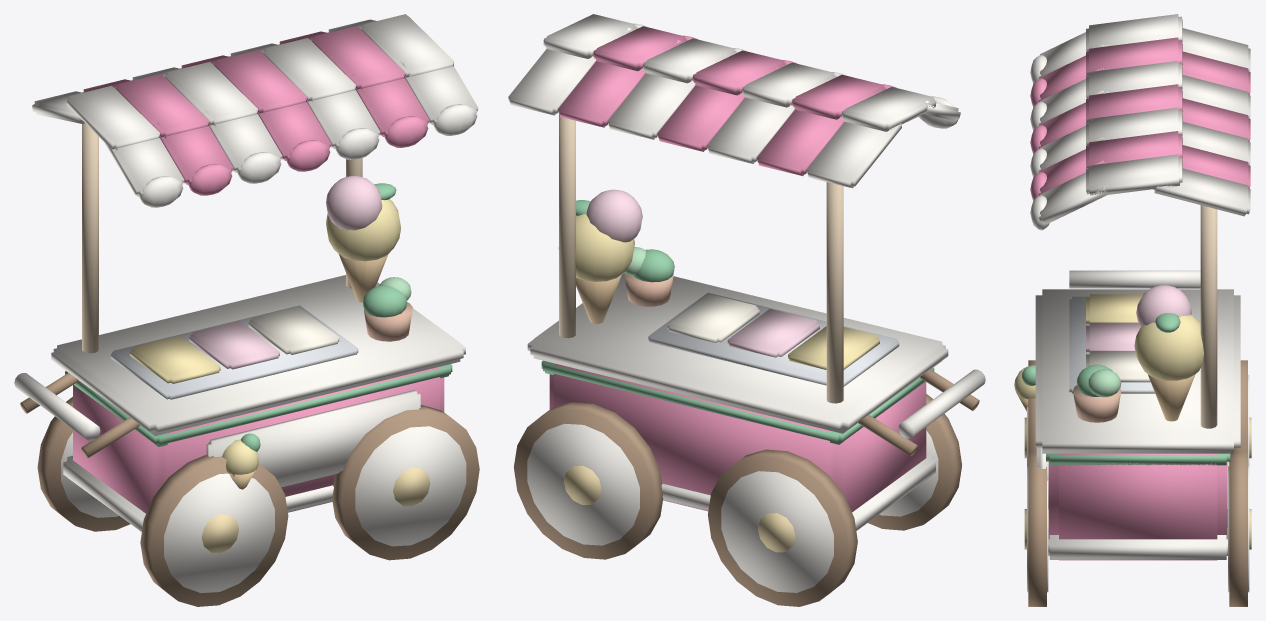
File: IceCreamCart.fbx
3 renders of one model, left to right at view 1: azimuth 30°, elevation 25°; view 2: azimuth 150°, elevation 25°; view 3: azimuth 270°, elevation 25°, orthographic. The views are drawn at different scales.
Parts seen in each view (by area): view 1: Cart_Base, Cart_CanopyFade; view 2: Cart_Base, Cart_CanopyFade; view 3: Cart_Base, Cart_CanopyFade.
Part boxes in pixels (<box>): Cart_Base: <box>14,123,479,606</box>; Cart_CanopyFade: <box>32,14,478,207</box>; Cart_Base: <box>513,114,985,606</box>; Cart_CanopyFade: <box>508,14,960,188</box>; Cart_Base: <box>1014,205,1251,606</box>; Cart_CanopyFade: <box>1030,14,1250,230</box>.
Size of the model in its own units: 2.3 by 2.73 by 1.28.
